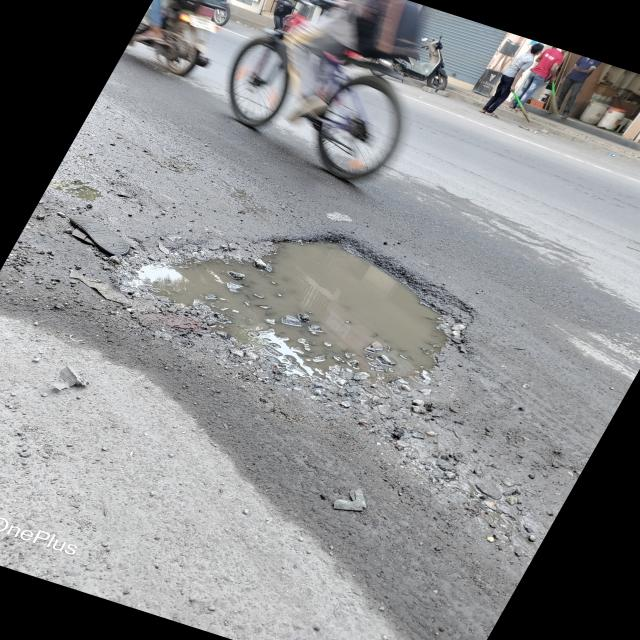Puddle pothole: (194, 206, 481, 411)
potholes: (44, 202, 160, 331)
